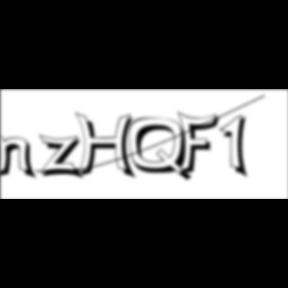1: (218, 114, 253, 182)
F: (178, 110, 226, 178)
H: (75, 112, 141, 182)
Q: (129, 117, 195, 184)
n: (0, 132, 40, 181)
z: (38, 134, 88, 182)
